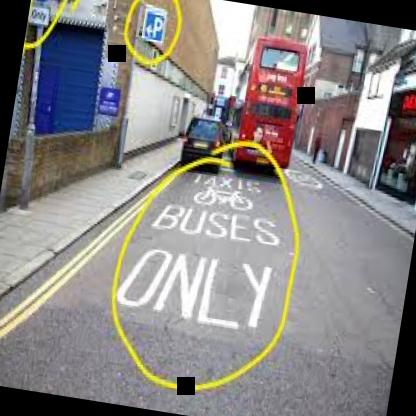car: (219, 20, 326, 205), (169, 97, 250, 188)
